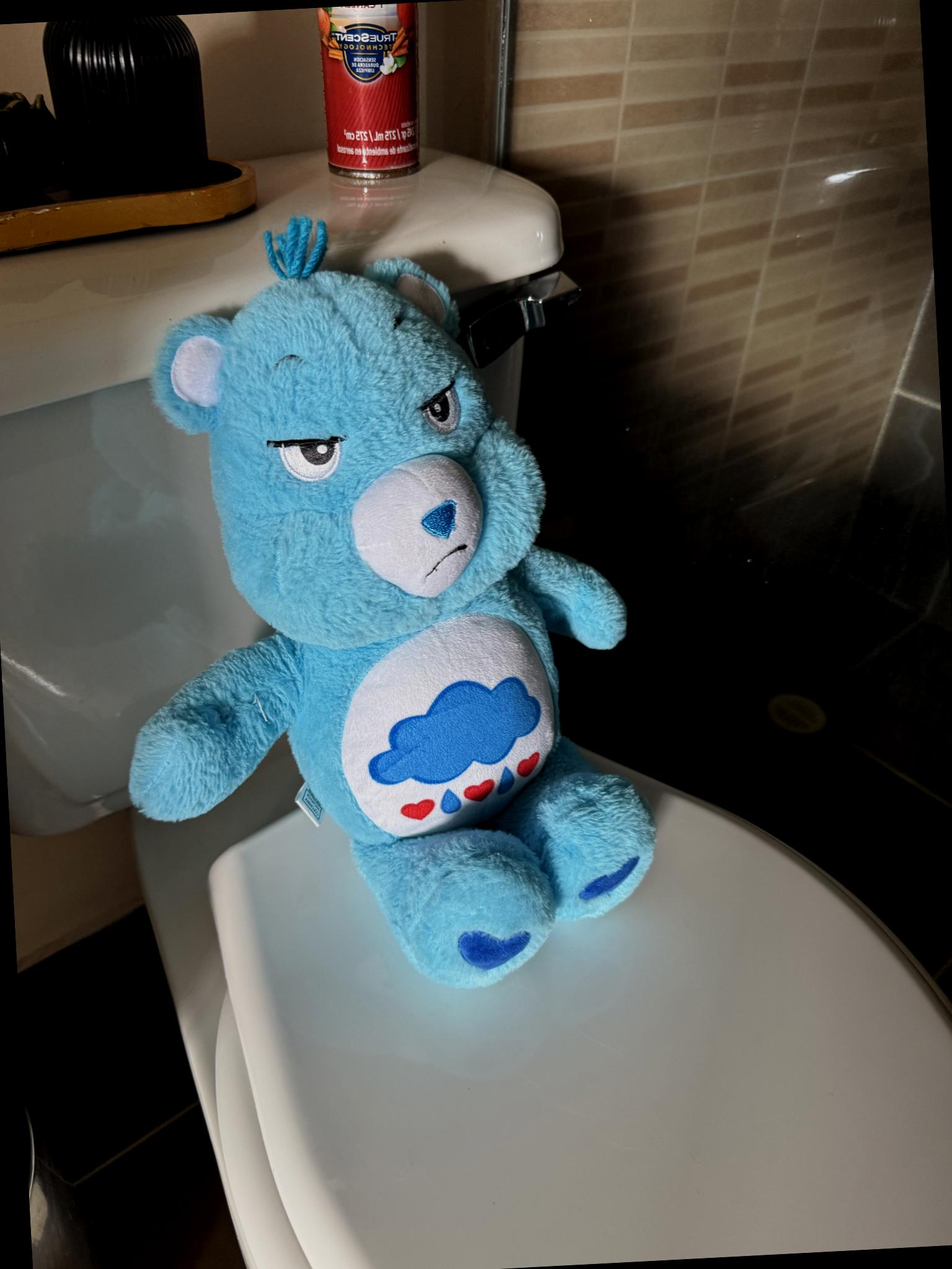peluche_Juan Jose: (154, 270, 597, 997)
